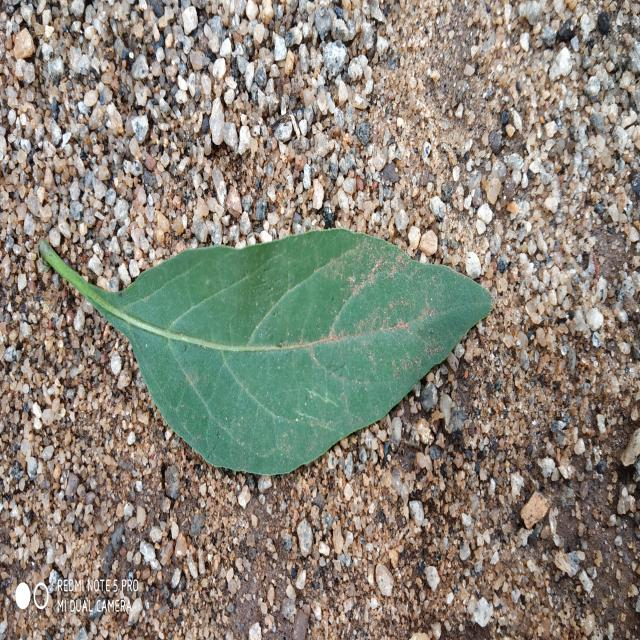ganike: (39, 231, 491, 476)
